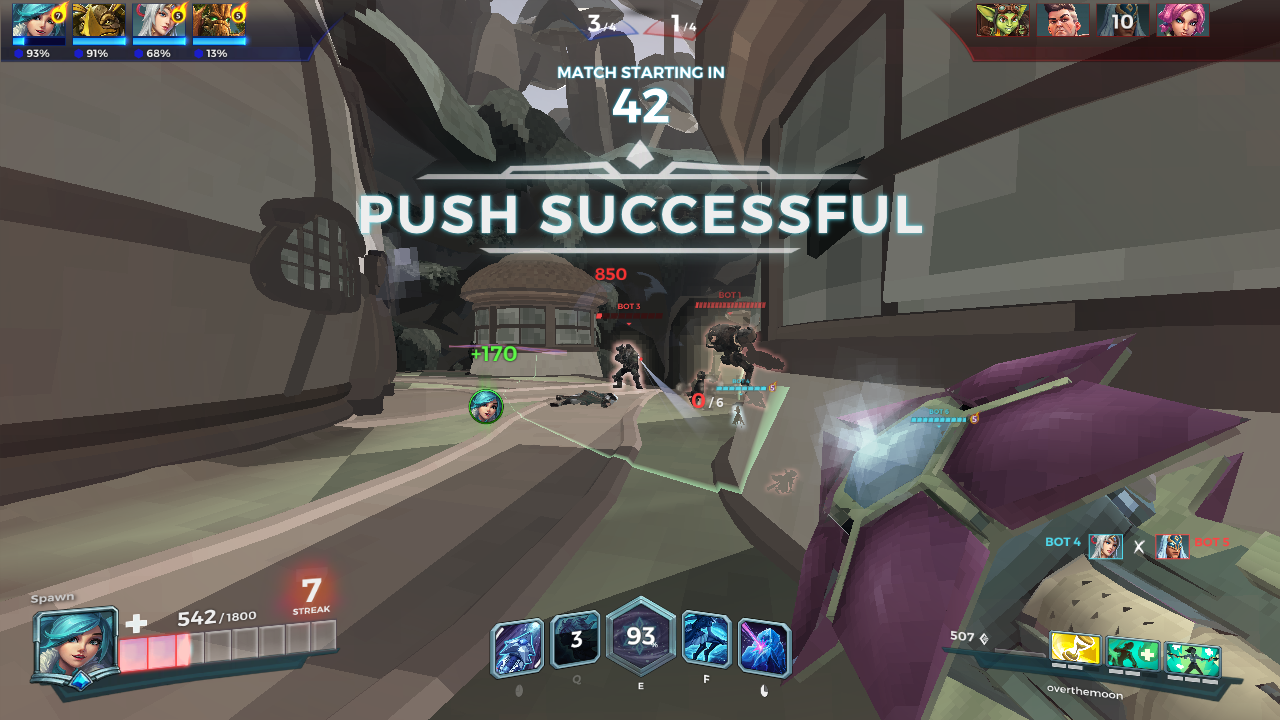model: (698, 321, 767, 417), (612, 338, 641, 384)
